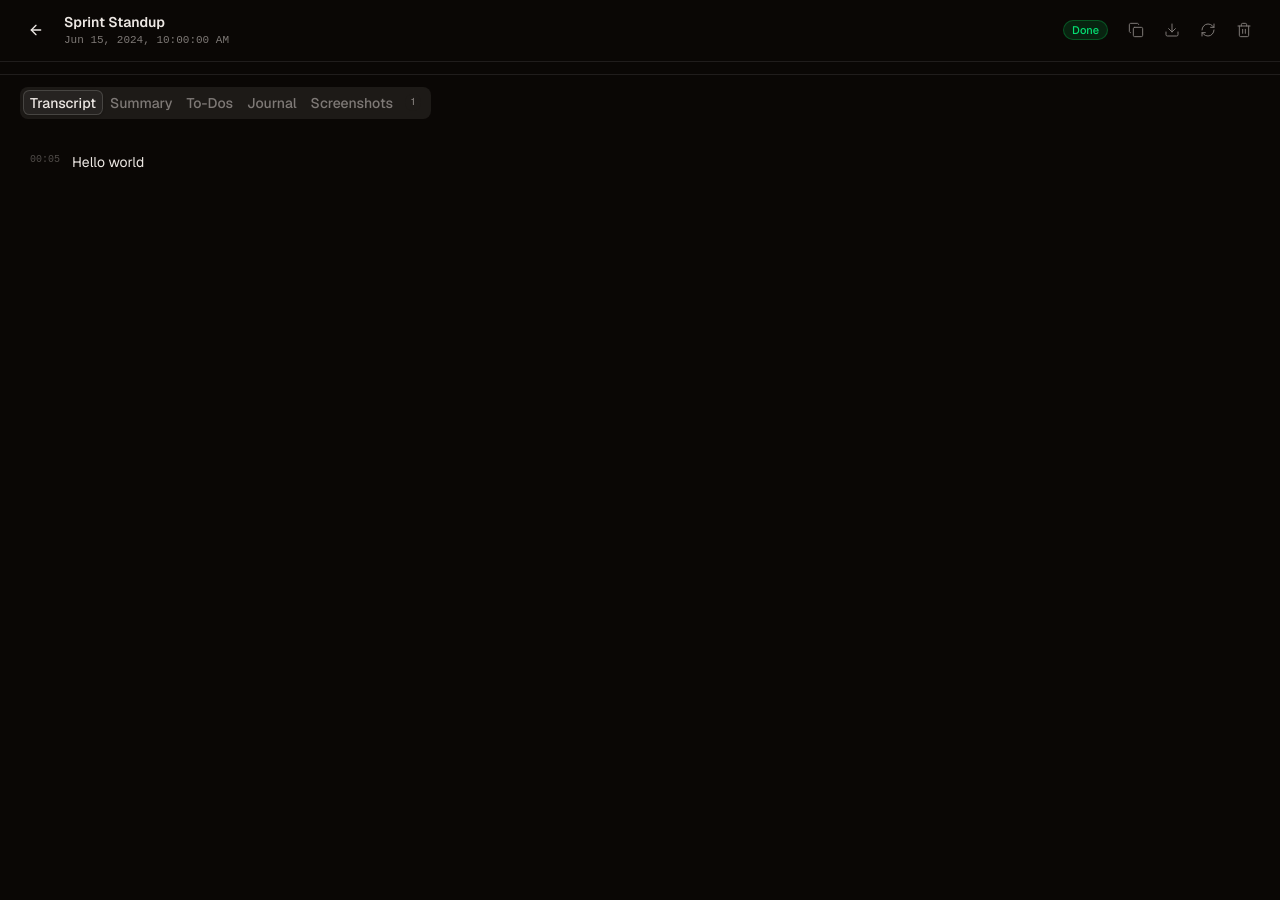
Test: Transcript — screenshot lightbox › does not show a filmstrip or arrows for a single screenshot
This screenshot has width=1280, height=900.
Click the tab "Screenshots 1" at (366, 102), box [304,90,428,115]
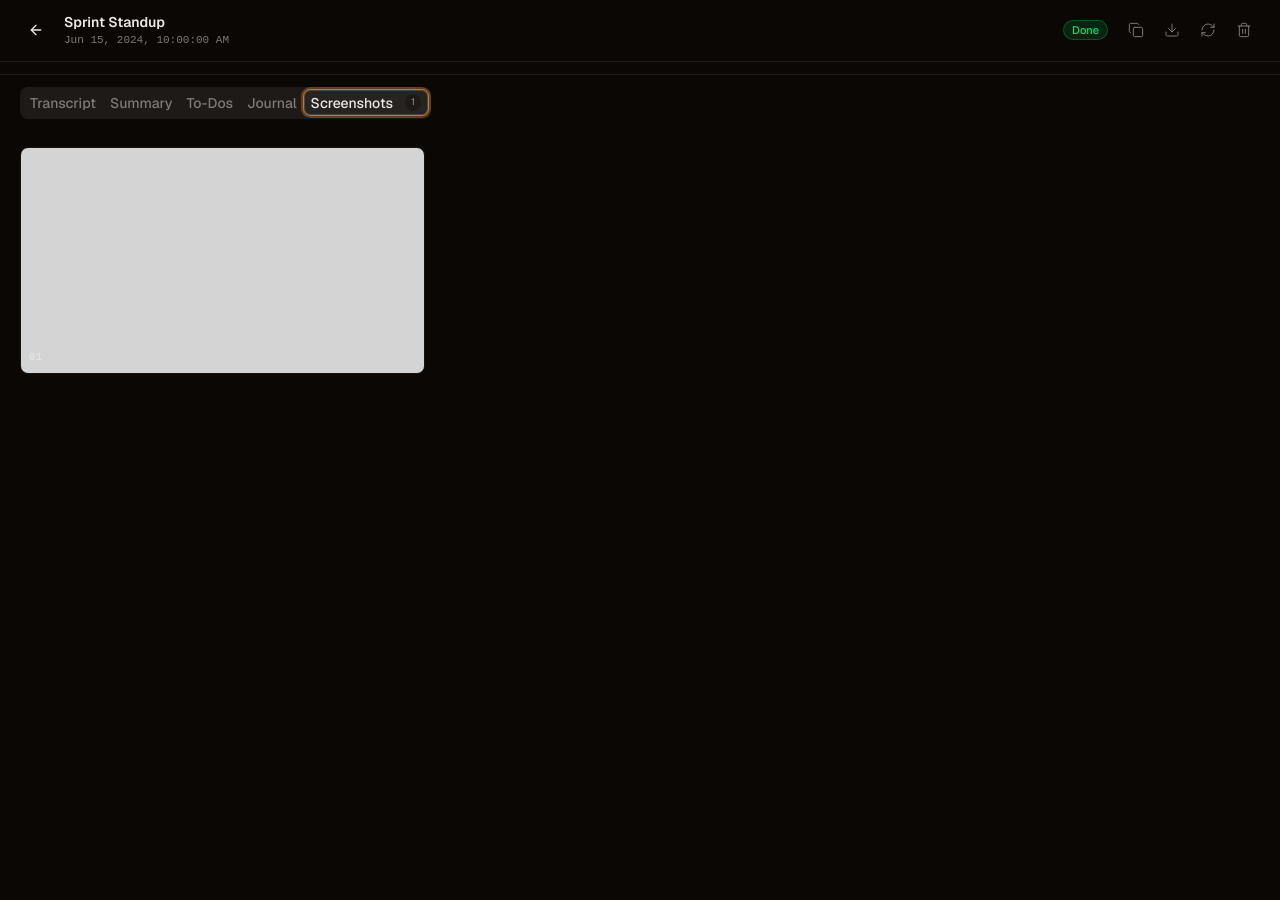
Click the button named "open screenshot 1" at (223, 260), box [20,146,425,374]
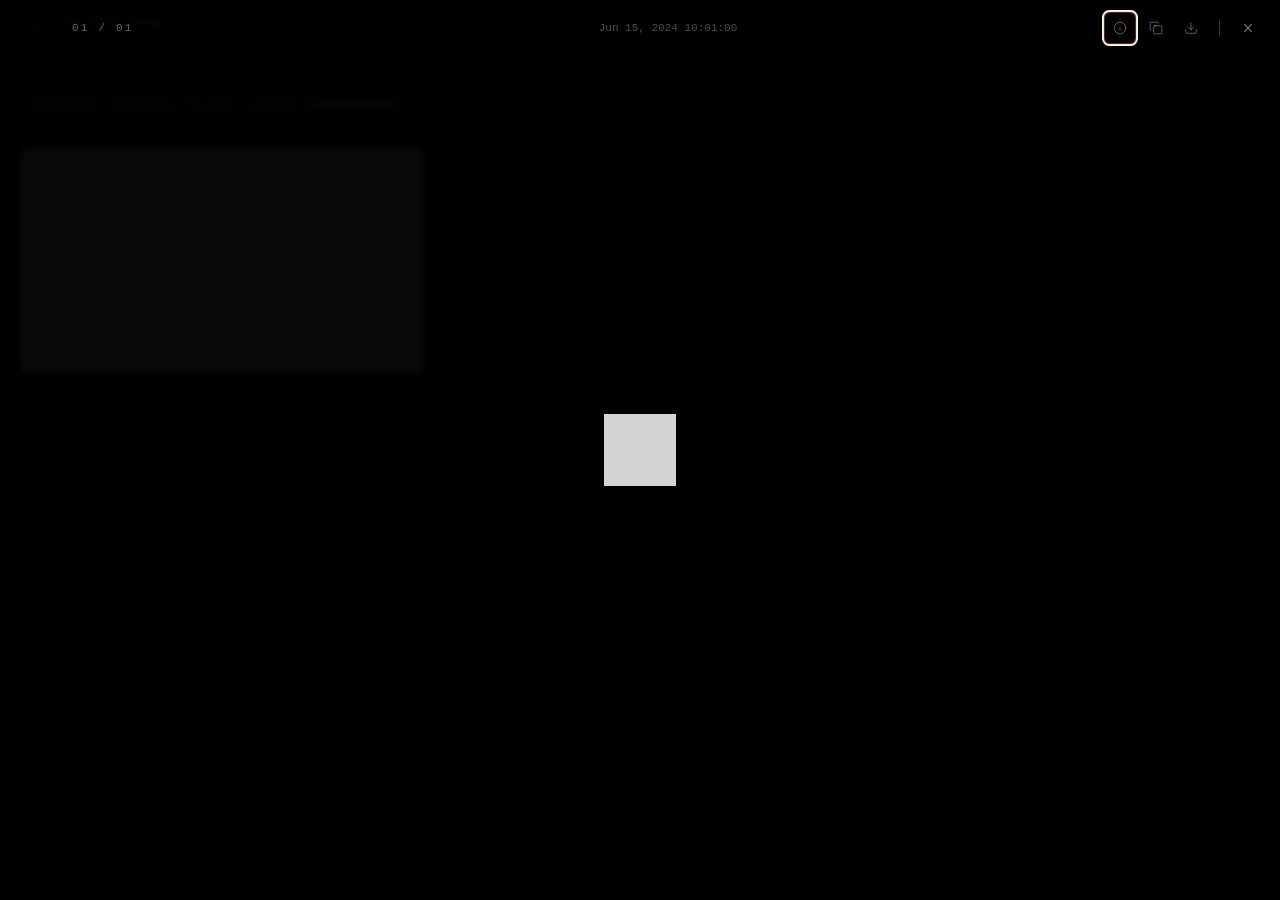
Expected: the button named "close" is shown, [1232,12,1264,44]
Expected: the text "01 / 01" is shown, [72,20,134,36]
